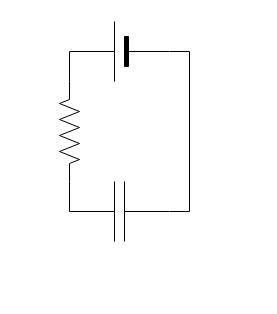resistor: (52, 91, 84, 174)
